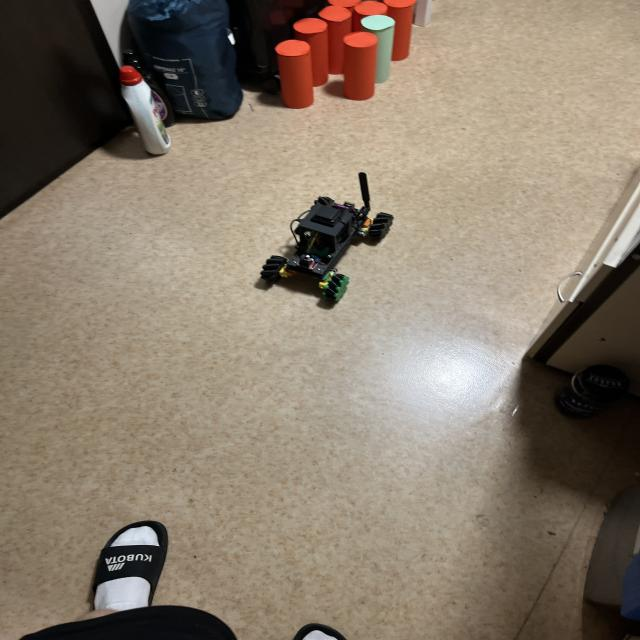robot: (260, 173, 394, 302)
